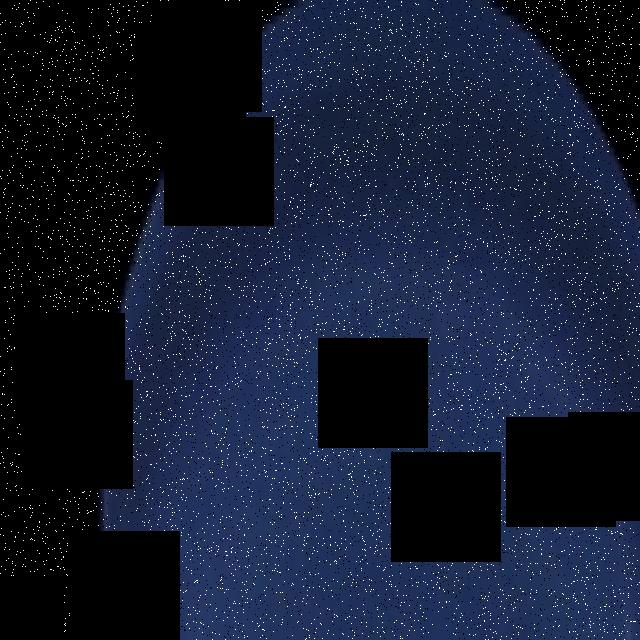Neptune: (100, 0, 640, 640)
